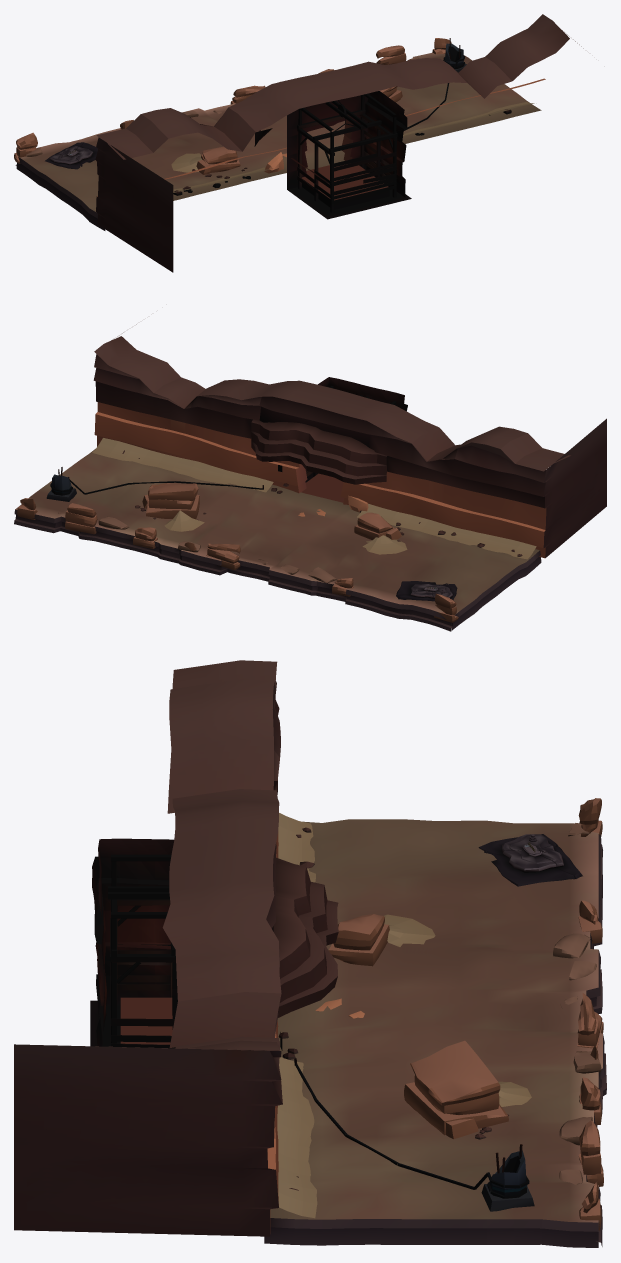
File: env_far_rim.glb
3 renders of one model, top to bottom at view 1: azimuth 30°, elevation 25°; view 2: azimuth 150°, elevation 25°; view 3: azimuth 270°, elevation 25°, orthographic. The views are drawn at different scales.
Parts seen in each view (by area): view 1: chunk_rim_ledge__m_frontier, chunk_rim_ledge__m_sand; view 2: chunk_rim_ledge__m_frontier, chunk_rim_ledge__m_sand; view 3: chunk_rim_ledge__m_frontier, chunk_rim_ledge__m_sand.
Part boxes in pixels (x1,y1,x2,y2): chunk_rim_ledge__m_frontier: (14, 14, 583, 272); chunk_rim_ledge__m_sand: (18, 52, 541, 212); chunk_rim_ledge__m_frontier: (14, 324, 606, 631); chunk_rim_ledge__m_sand: (15, 438, 539, 614); chunk_rim_ledge__m_frontier: (14, 660, 606, 1247); chunk_rim_ledge__m_sand: (270, 813, 602, 1222).
Size of the model in its own units: 31.8 by 7.48 by 19.43.
